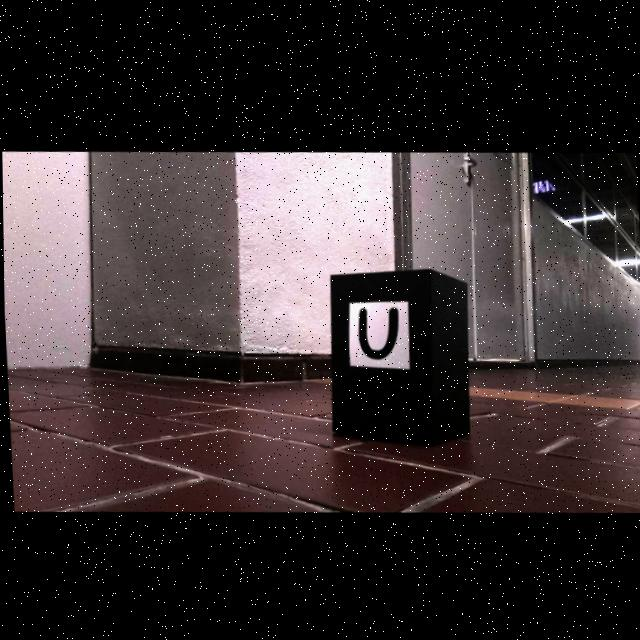U: (358, 304, 397, 356)
